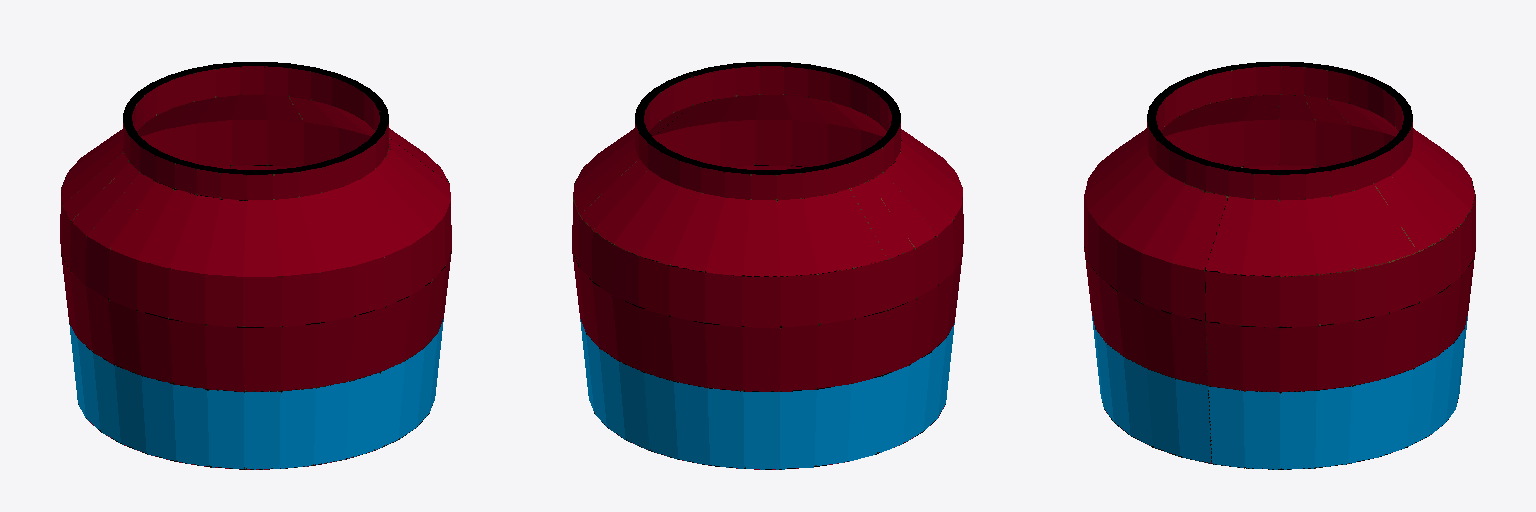
3 views of the same model, side by side, from view 1: azimuth 30°, elevation 25°; view 2: azimuth 150°, elevation 25°; view 3: azimuth 270°, elevation 25° (orthographic).
Parts seen in each view (by area): view 1: Circle; view 2: Circle; view 3: Circle.
Part boxes in pixels (x1,y1,x2,y2): Circle: (60, 62, 451, 469); Circle: (572, 62, 963, 469); Circle: (1084, 62, 1475, 469).
Bounding box in the file's own units: 1.09 × 0.8489 × 1.09.
Materials: 1 (1 with a texture image).